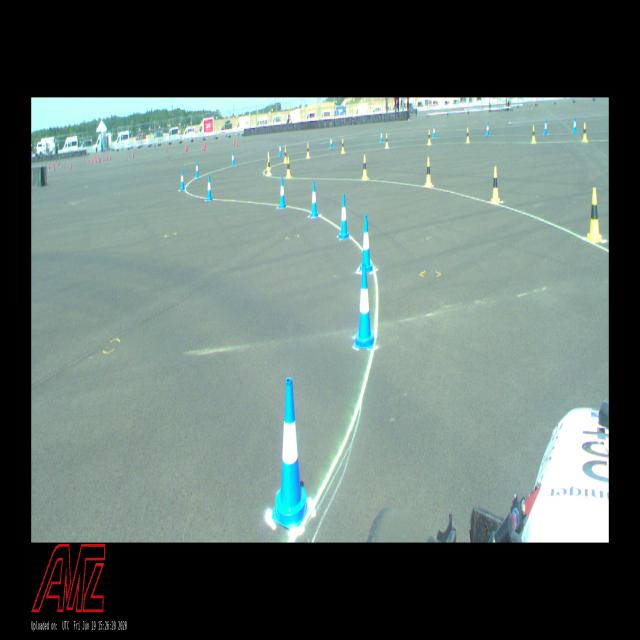blue_cone: (271, 377, 310, 530), (354, 264, 375, 350), (359, 215, 373, 273), (338, 194, 350, 239), (310, 182, 318, 218), (278, 177, 286, 209), (206, 175, 213, 202), (179, 170, 185, 190), (195, 161, 199, 178), (329, 136, 334, 149), (379, 130, 384, 143), (573, 118, 577, 134), (544, 120, 548, 135), (486, 122, 490, 136), (231, 152, 235, 166), (432, 125, 436, 138), (278, 144, 282, 156)
yellow_cone: (586, 188, 603, 243), (490, 166, 501, 204), (424, 157, 432, 187), (362, 155, 368, 180), (582, 122, 588, 142), (286, 157, 291, 178), (266, 159, 272, 176), (531, 125, 536, 143), (266, 152, 270, 170), (466, 128, 470, 144), (341, 138, 345, 154), (306, 143, 310, 159), (284, 148, 288, 164), (427, 130, 431, 145), (385, 134, 389, 148)
